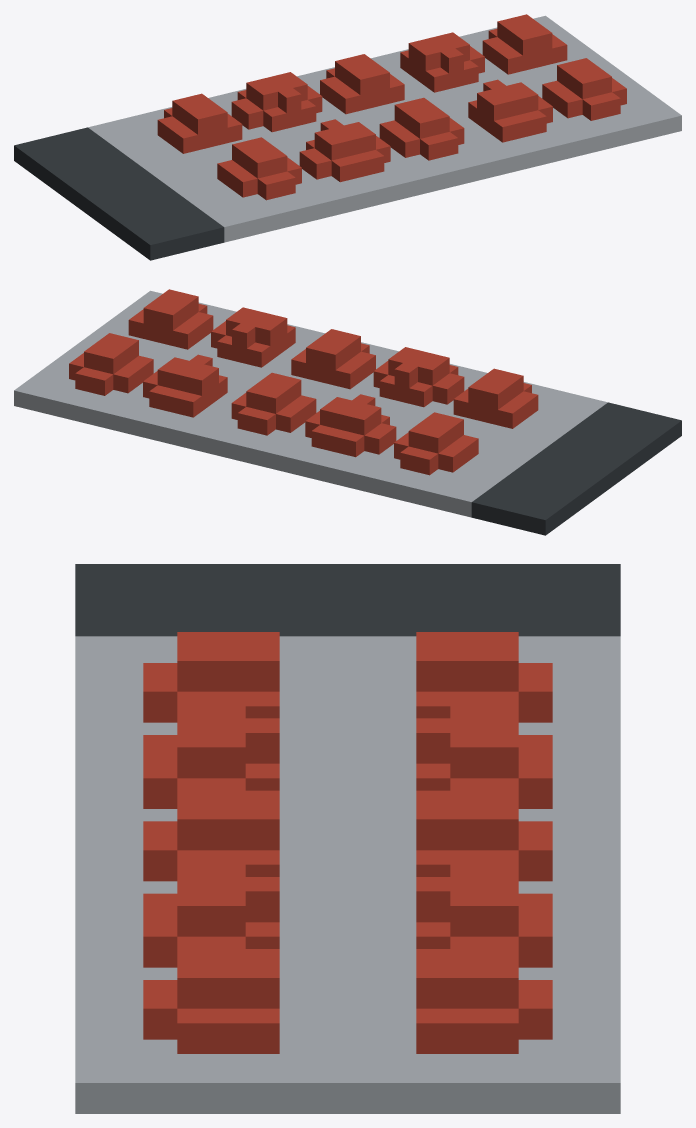
File: chlorpromazine.glb
3 renders of one model, top to bottom at view 1: azimuth 30°, elevation 25°; view 2: azimuth 150°, elevation 25°; view 3: azimuth 270°, elevation 25°, orthographic. The views are drawn at different scales.
Visible parts, largest first — view 1: chlorpromazine:compound; view 2: chlorpromazine:compound; view 3: chlorpromazine:compound.
Part boxes in pixels (left/top/right/bottom): chlorpromazine:compound: left=14, top=14, right=681, bottom=260; chlorpromazine:compound: left=14, top=289, right=681, bottom=535; chlorpromazine:compound: left=75, top=564, right=620, bottom=1113.
Size of the model in its own units: 0.072 by 0.006 by 0.032.
